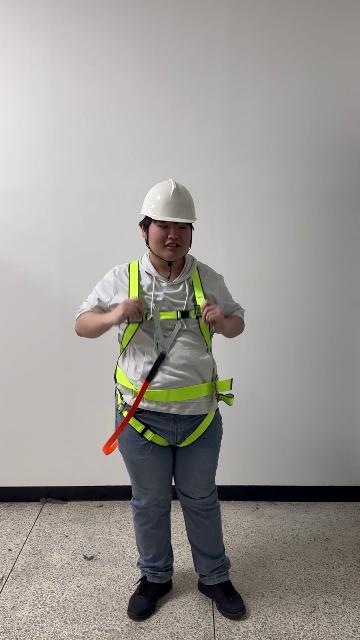helmet_worn: (139, 179, 198, 224)
shoe_not_worn: (197, 578, 246, 620), (127, 576, 173, 620)
vest_worn: (109, 262, 234, 445)
